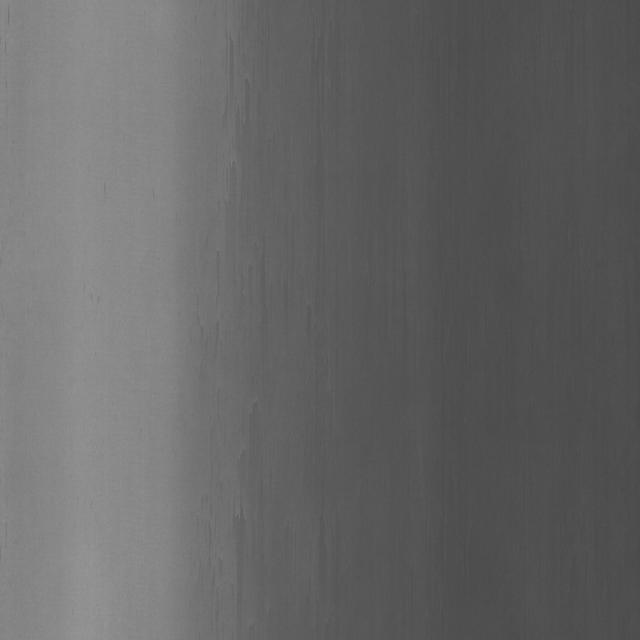inclusion: (206, 40, 307, 519)
